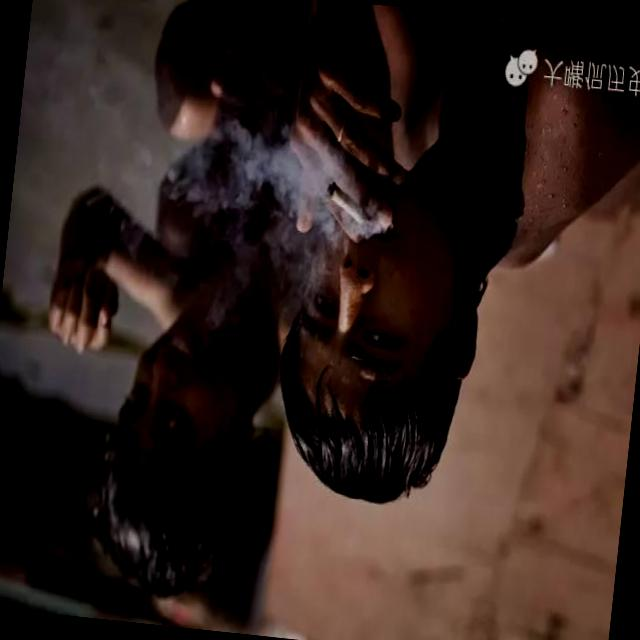smoke: (306, 162, 386, 239)
